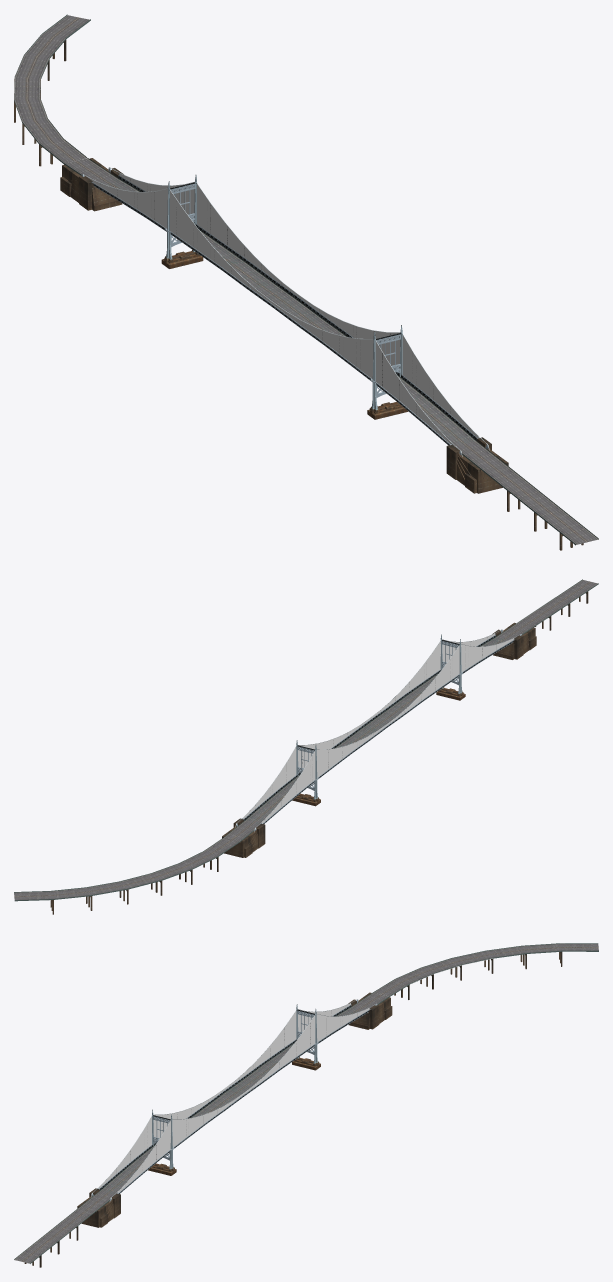
The model's file is xuansuo.glb.
3 renders of one model, top to bottom at view 1: azimuth 30°, elevation 25°; view 2: azimuth 150°, elevation 25°; view 3: azimuth 330°, elevation 25°, orthographic. The views are drawn at different scales.
Parts seen in each view (by area): view 1: SketchUp.220, SketchUp.189, SketchUp.225, SketchUp.458, SketchUp.224, SketchUp.176, SketchUp.277, SketchUp.435, SketchUp.445, SketchUp.212, SketchUp.182, SketchUp.203 (+1 smaller); view 2: SketchUp.220, SketchUp.189, SketchUp.225, SketchUp.224, SketchUp.458, SketchUp.176, SketchUp.277, SketchUp.212, SketchUp.215, SketchUp.435; view 3: SketchUp.220, SketchUp.189, SketchUp.224, SketchUp.458, SketchUp.225, SketchUp.176, SketchUp.277, SketchUp.445, SketchUp.435, SketchUp.215, SketchUp.203.
Boxes of the visible parts, <box> form: SketchUp.220: <box>14,15,89,163</box>; SketchUp.189: <box>101,178,475,446</box>; SketchUp.225: <box>170,190,373,378</box>; SketchUp.458: <box>455,441,598,544</box>; SketchUp.224: <box>197,184,400,371</box>; SketchUp.176: <box>60,158,123,211</box>; SketchUp.277: <box>446,437,508,493</box>; SketchUp.435: <box>375,341,451,444</box>; SketchUp.445: <box>402,335,478,437</box>; SketchUp.212: <box>92,180,167,228</box>; SketchUp.182: <box>118,176,476,440</box>; SketchUp.203: <box>93,184,449,445</box>; SketchUp.220: <box>14,838,238,900</box>; SketchUp.189: <box>245,637,507,824</box>; SketchUp.225: <box>316,646,459,777</box>; SketchUp.224: <box>298,641,440,770</box>; SketchUp.458: <box>497,580,597,639</box>; SketchUp.176: <box>222,818,265,857</box>; SketchUp.277: <box>492,622,536,659</box>; SketchUp.212: <box>262,751,315,823</box>; SketchUp.215: <box>243,747,296,818</box>; SketchUp.435: <box>461,638,513,671</box>; SketchUp.220: <box>373,943,598,996</box>; SketchUp.189: <box>101,1007,363,1194</box>; SketchUp.224: <box>172,1015,315,1147</box>; SketchUp.458: <box>14,1191,114,1263</box>; SketchUp.225: <box>153,1011,296,1140</box>; SketchUp.176: <box>348,992,392,1029</box>; SketchUp.277: <box>77,1188,120,1227</box>; SketchUp.445: <box>117,1121,170,1193</box>; SketchUp.435: <box>99,1116,151,1188</box>; SketchUp.215: <box>316,1008,369,1041</box>; SketchUp.203: <box>99,1005,351,1190</box>.
Size of what is drawn, in the model's own units: 226 by 106 by 1448.
24 materials, 21 textured.
